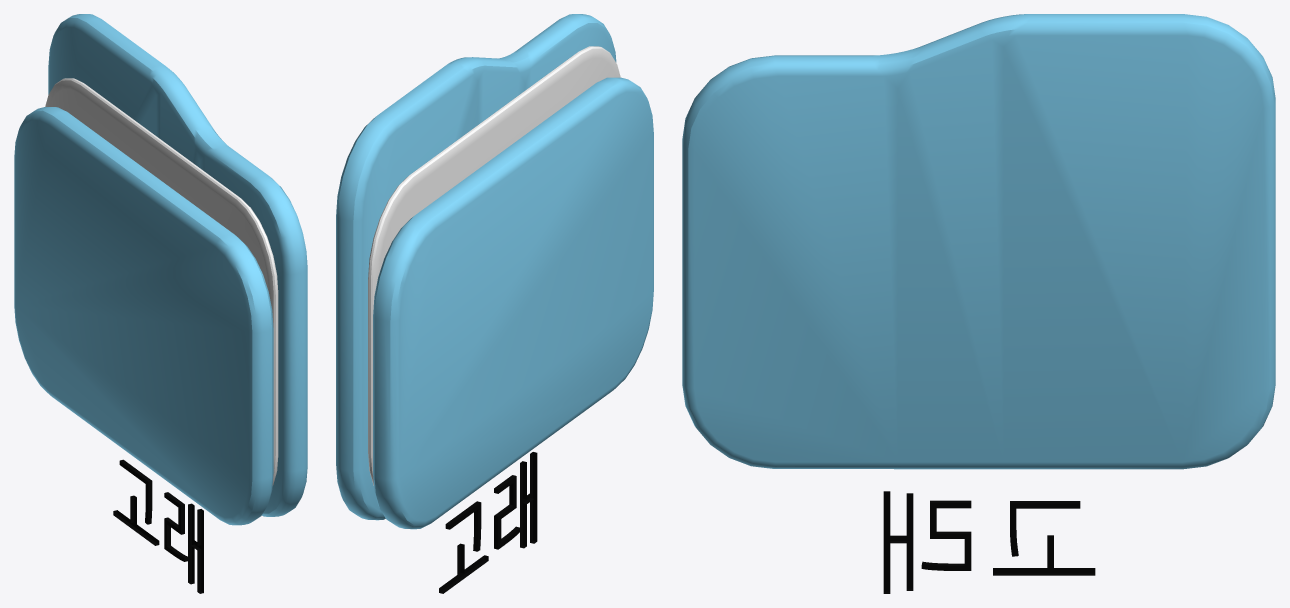
3 renders of one model, left to right at view 1: azimuth 30°, elevation 25°; view 2: azimuth 150°, elevation 25°; view 3: azimuth 270°, elevation 25°, orthographic. The views are drawn at different scales.
Visible parts, largest first — view 1: Plane.013; view 2: Plane.013; view 3: Plane.013.
Boxes of the visible parts, <box> form: Plane.013: <box>14,14,307,593</box>; Plane.013: <box>336,14,653,593</box>; Plane.013: <box>682,14,1275,593</box>.
Size of the model in its own units: 5.34 by 42.18 by 38.78.
